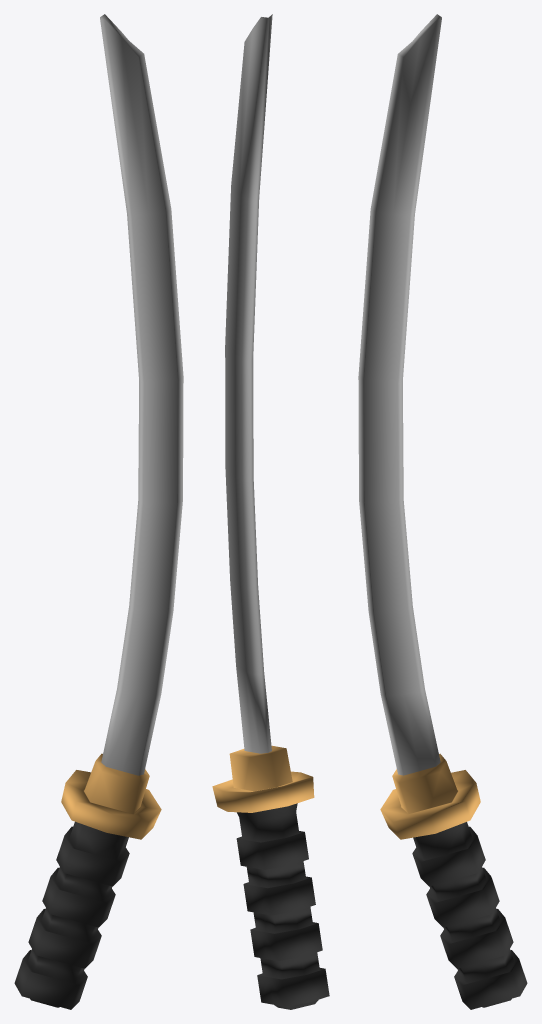
File: Katana.gltf
The picture shows the model from 3 angles, left to right: view 1: azimuth 90°, elevation 25°; view 2: azimuth 210°, elevation 25°; view 3: azimuth 270°, elevation 25°; orthographic projection.
Parts seen in each view (by area): view 1: Node1; view 2: Node1; view 3: Node1.
Part boxes in pixels (box(x1,y1,x2,y2)): Node1: box(14, 14, 183, 1009); Node1: box(212, 14, 329, 1009); Node1: box(358, 14, 527, 1009).
Size of the model in its own units: 0.3165 by 3.77 by 0.5866.
